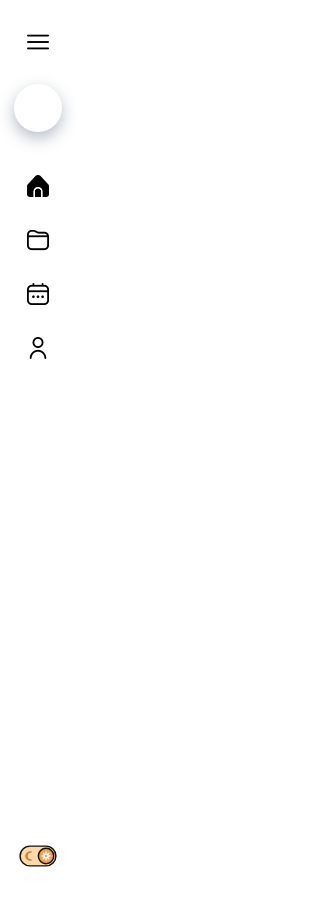
Test: Sidebar › colapsar y expandir cambia data-expanded, aria-expanded y la cookie
The image size is (320, 900).
Click the button named "Mostrar menú" at point(38, 42), box x1=14 y1=20 x2=62 y2=64
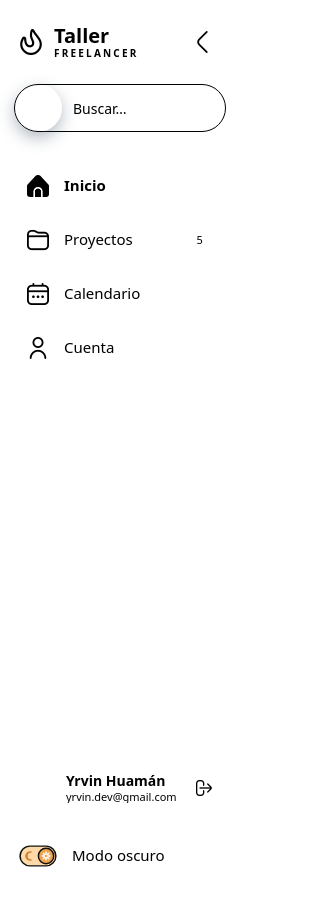
Now the button named "Esconder menú" is expanded, box x1=178 y1=20 x2=226 y2=64
